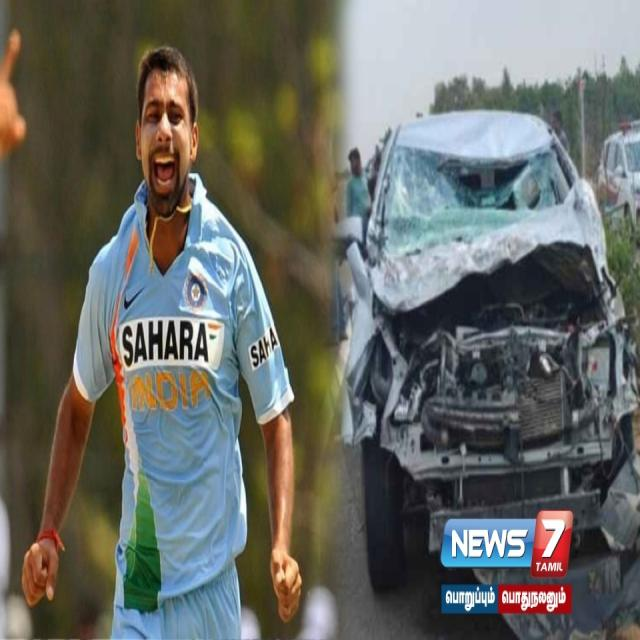accident: (344, 111, 636, 587)
